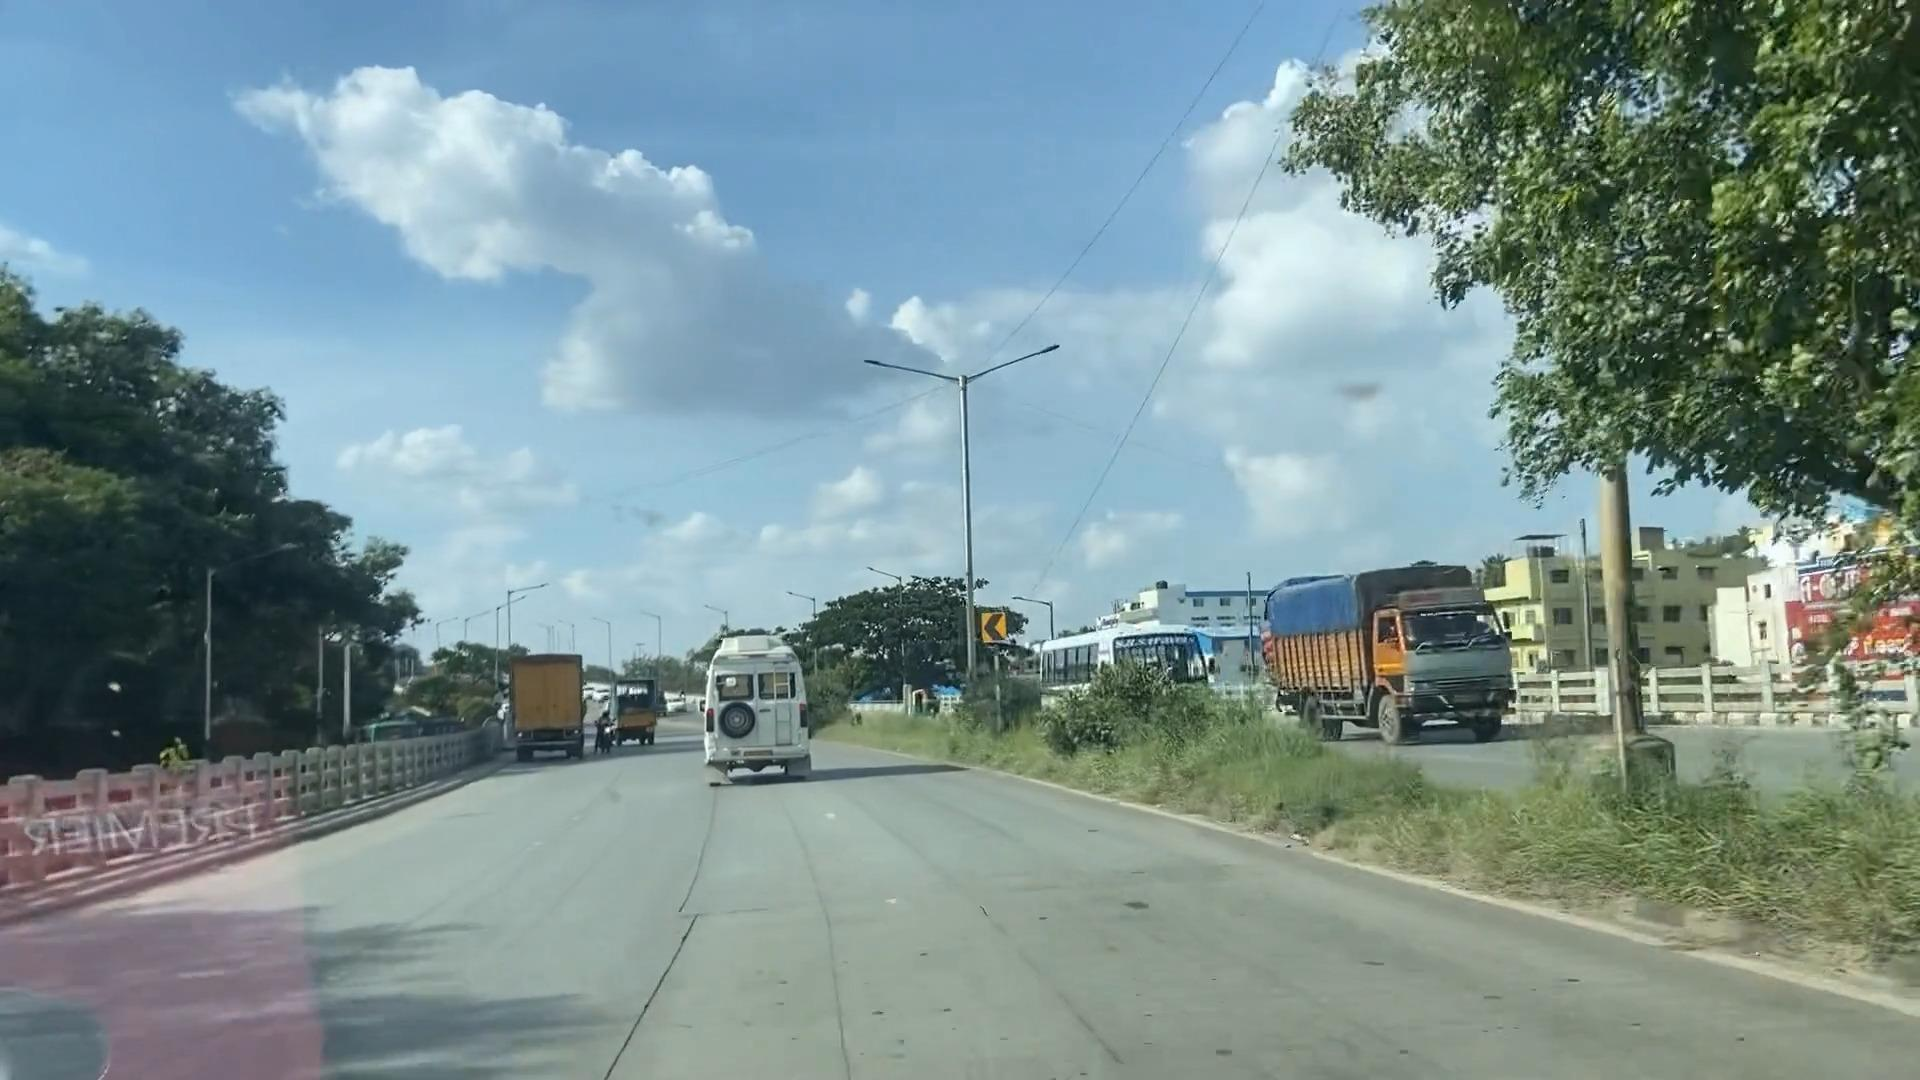HMV: (700, 612, 812, 789), (498, 618, 598, 757)
